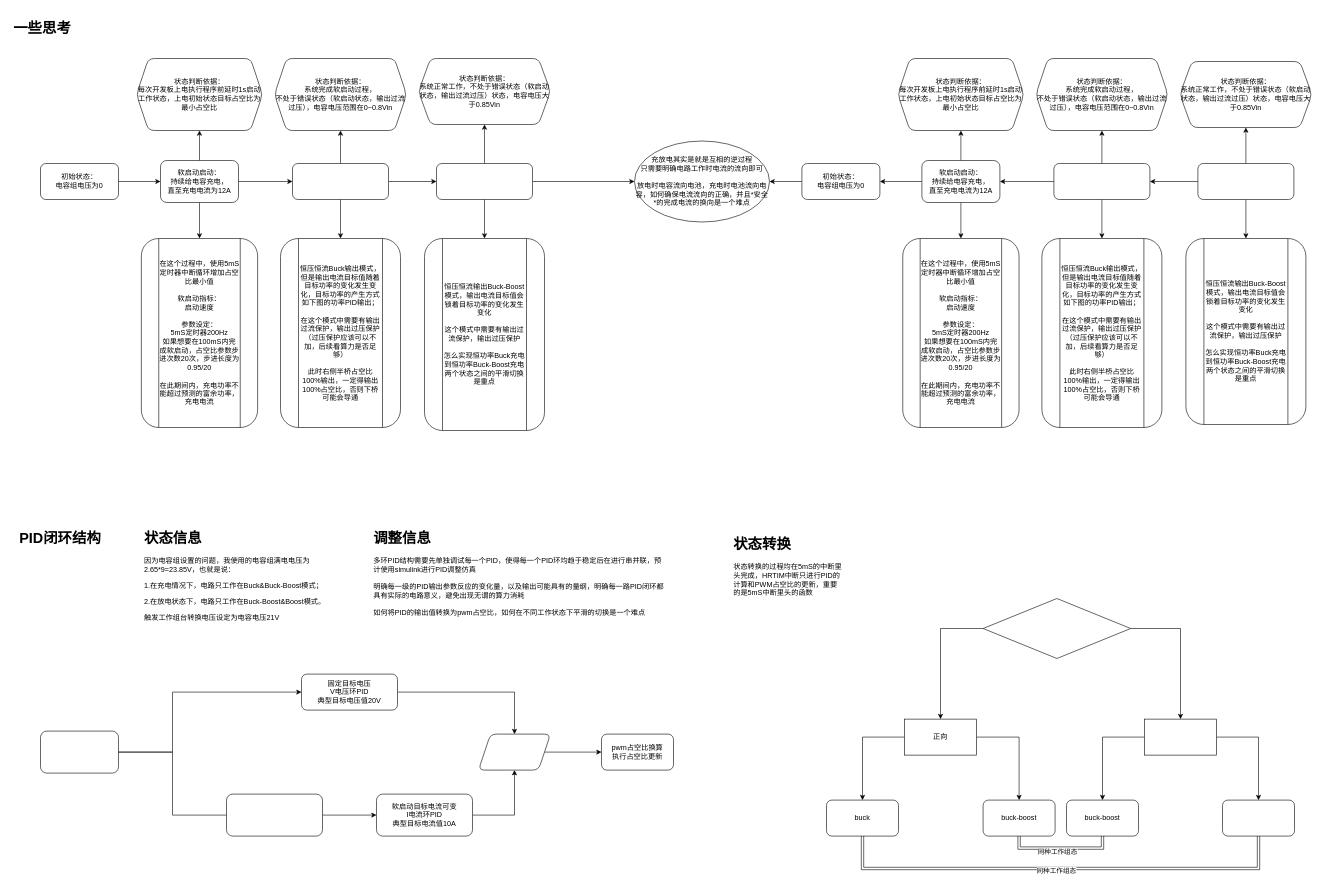
The diagram is 1322 pixels wide and 884 high, and some of its shapes have lost their labels. Each missing label, with the centre of its shape:
boost: the point at 1258,818
Min: the point at 514,752
P功率环PID: the point at 79,751
富余功率目标功率可变 P功率环PID 典型目标功率65W: the point at 274,815
恒功率Boost放电： 使用恒定功率从电容放电: the point at 1101,181
恒功率Buck-Boost充电： 使用恒定功率给电容充电: the point at 484,181
恒功率Buck-Boost放电： 使用恒定功率从电容放电: the point at 1245,181
恒功率Buck充电： 使用恒定功率给电容充电: the point at 340,181
状态机标识位: the point at 1056,628
负向: the point at 1180,736
